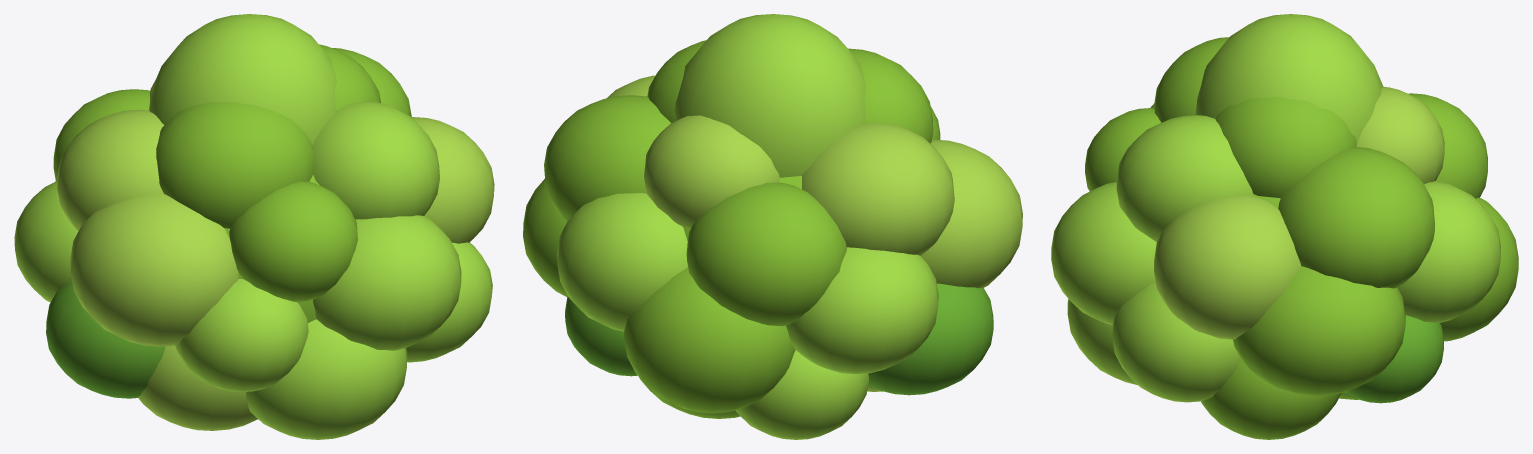
File: arbusto-redondo.glb
3 views of the same model, side by side, from view 1: azimuth 30°, elevation 25°; view 2: azimuth 150°, elevation 25°; view 3: azimuth 270°, elevation 25° (orthographic). The views are drawn at different scales.
Visible parts, largest first — view 1: Hojas_verde_lima, Hojas_verde_claro, Hojas_verde_manzana, Hojas_verde_pradera; view 2: Hojas_verde_lima, Hojas_verde_manzana, Hojas_verde_claro, Hojas_verde_pradera; view 3: Hojas_verde_manzana, Hojas_verde_lima, Hojas_verde_claro, Hojas_verde_pradera.
Boxes of the visible parts, left/top/right/bottom form: Hojas_verde_lima: left=14, top=14, right=492, bottom=439; Hojas_verde_claro: left=57, top=80, right=494, bottom=430; Hojas_verde_manzana: left=53, top=44, right=411, bottom=322; Hojas_verde_pradera: left=46, top=281, right=165, bottom=398; Hojas_verde_lima: left=557, top=14, right=938, bottom=439; Hojas_verde_manzana: left=523, top=40, right=940, bottom=418; Hojas_verde_claro: left=607, top=75, right=1022, bottom=391; Hojas_verde_pradera: left=565, top=283, right=993, bottom=395; Hojas_verde_manzana: left=1085, top=37, right=1518, bottom=439; Hojas_verde_lima: left=1051, top=14, right=1500, bottom=402; Hojas_verde_claro: left=1150, top=87, right=1444, bottom=339; Hojas_verde_pradera: left=1344, top=315, right=1443, bottom=403.
Bounding box in the file's own units: 1.33 × 1.08 × 1.28.
